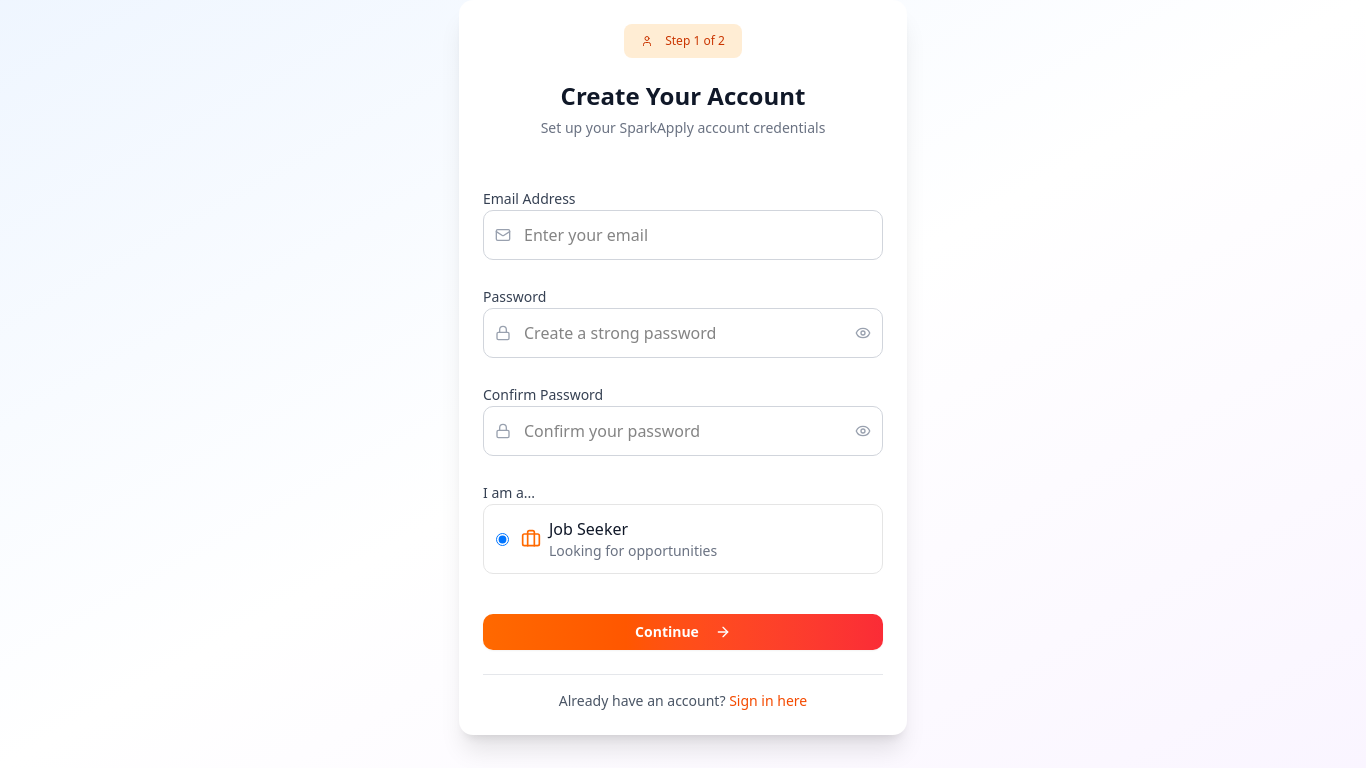
it: RegisterForm › validates email field in step 1
Type "invalid-email" into the field labelled "Email Address" at {"x": 683, "y": 235}, box [483,210,883,260]
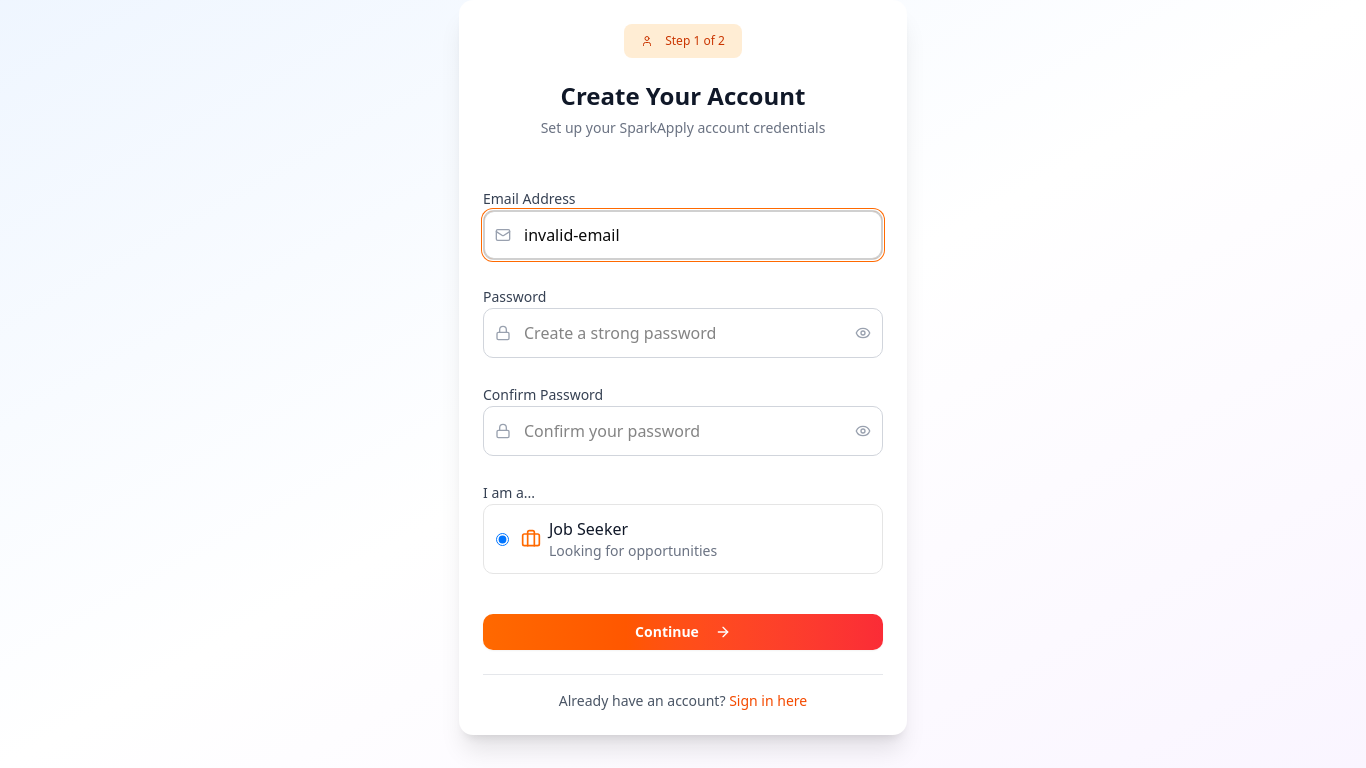
Click the button "Continue" at {"x": 683, "y": 632}, box [483,614,883,650]
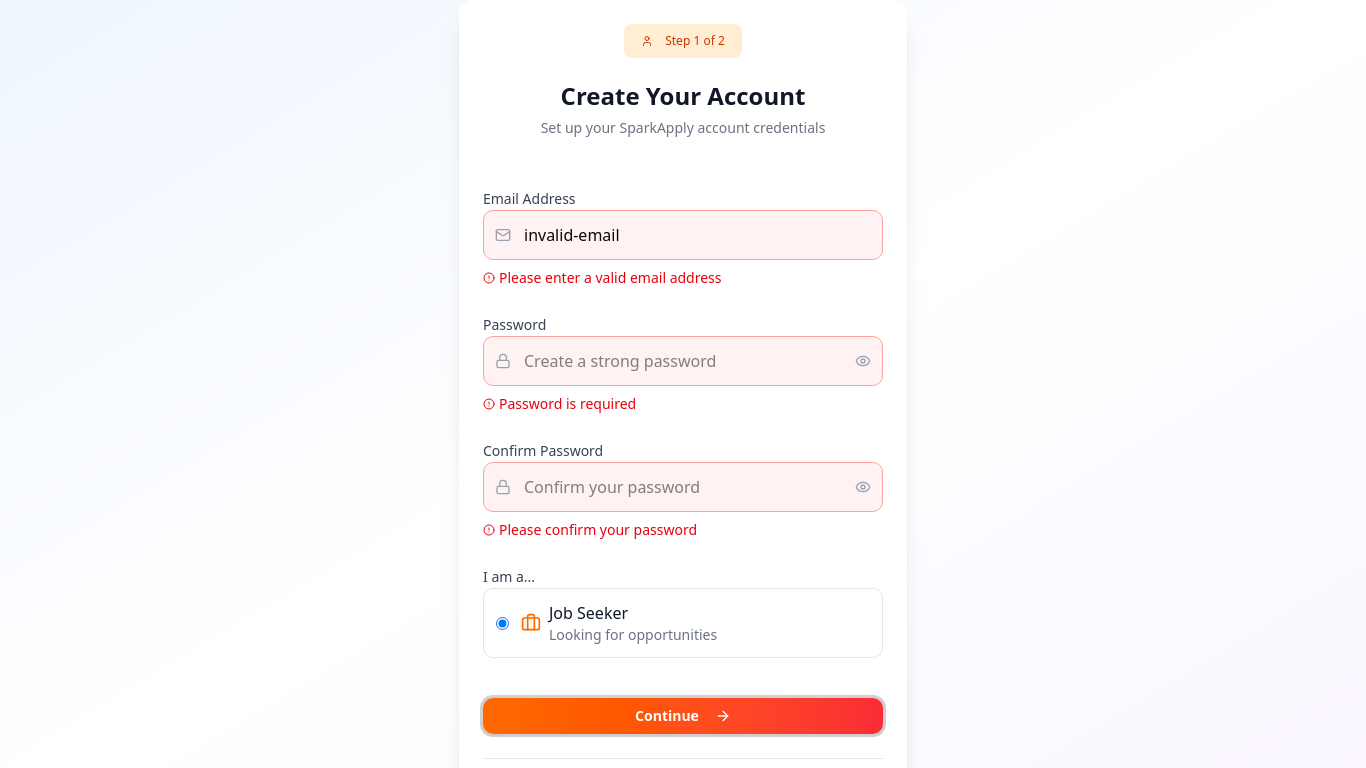
Check: the text "Please enter a valid email address" is shown, box [483,268,722,287]
